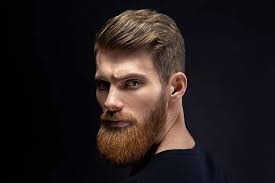b.y: (102, 112, 141, 160)
